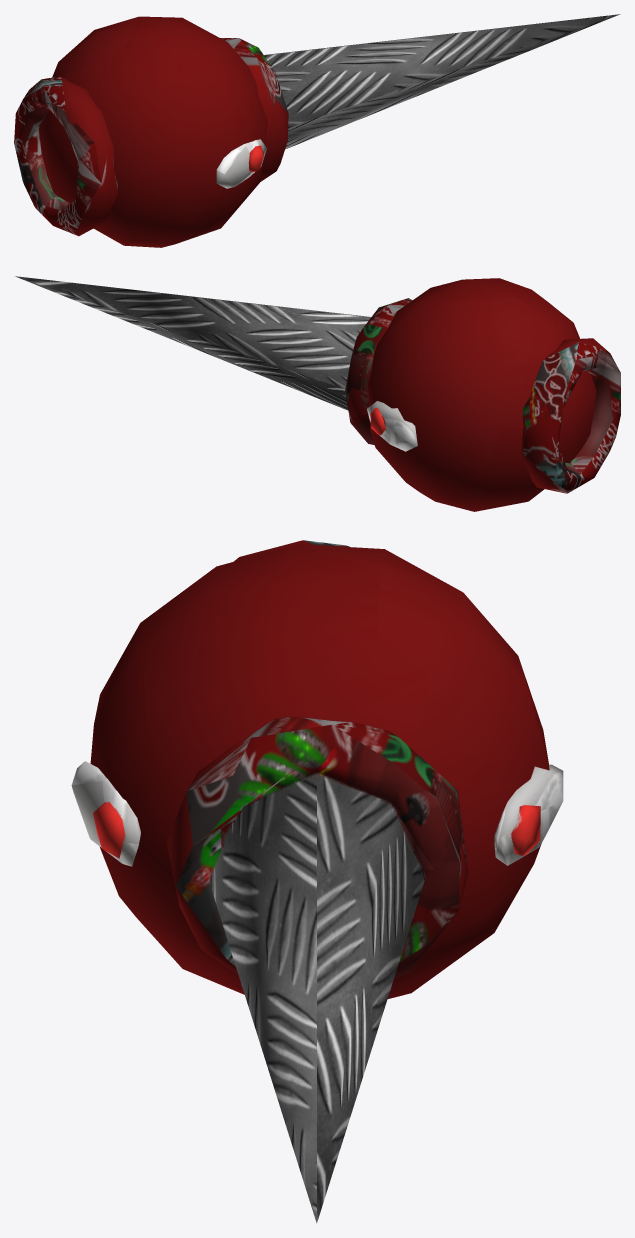
File: spike.obj
The picture shows the model from 3 angles, top to bottom: view 1: azimuth 30°, elevation 25°; view 2: azimuth 150°, elevation 25°; view 3: azimuth 270°, elevation 25°; orthographic projection. The views are drawn at different scales.
Parts seen in each view (by area): view 1: bake_Sphere.215_Sphere.002; view 2: bake_Sphere.215_Sphere.002; view 3: bake_Sphere.215_Sphere.002.
Part boxes in pixels (x1,y1,x2,y2): bake_Sphere.215_Sphere.002: (14,14,620,247); bake_Sphere.215_Sphere.002: (14,276,620,511); bake_Sphere.215_Sphere.002: (71,540,563,1223).
Bounding box in the file's own units: 4.97 × 1.74 × 1.84.
Materials: 1 (1 with a texture image).
